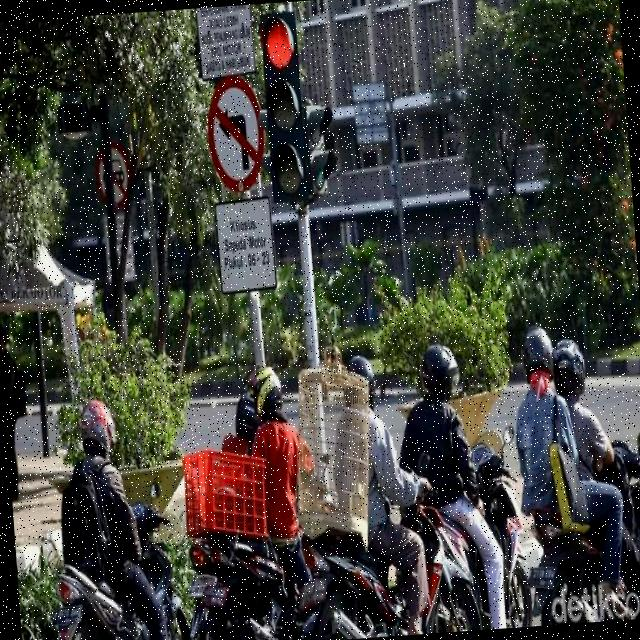Czerwone swiatlo: (256, 9, 312, 206)
